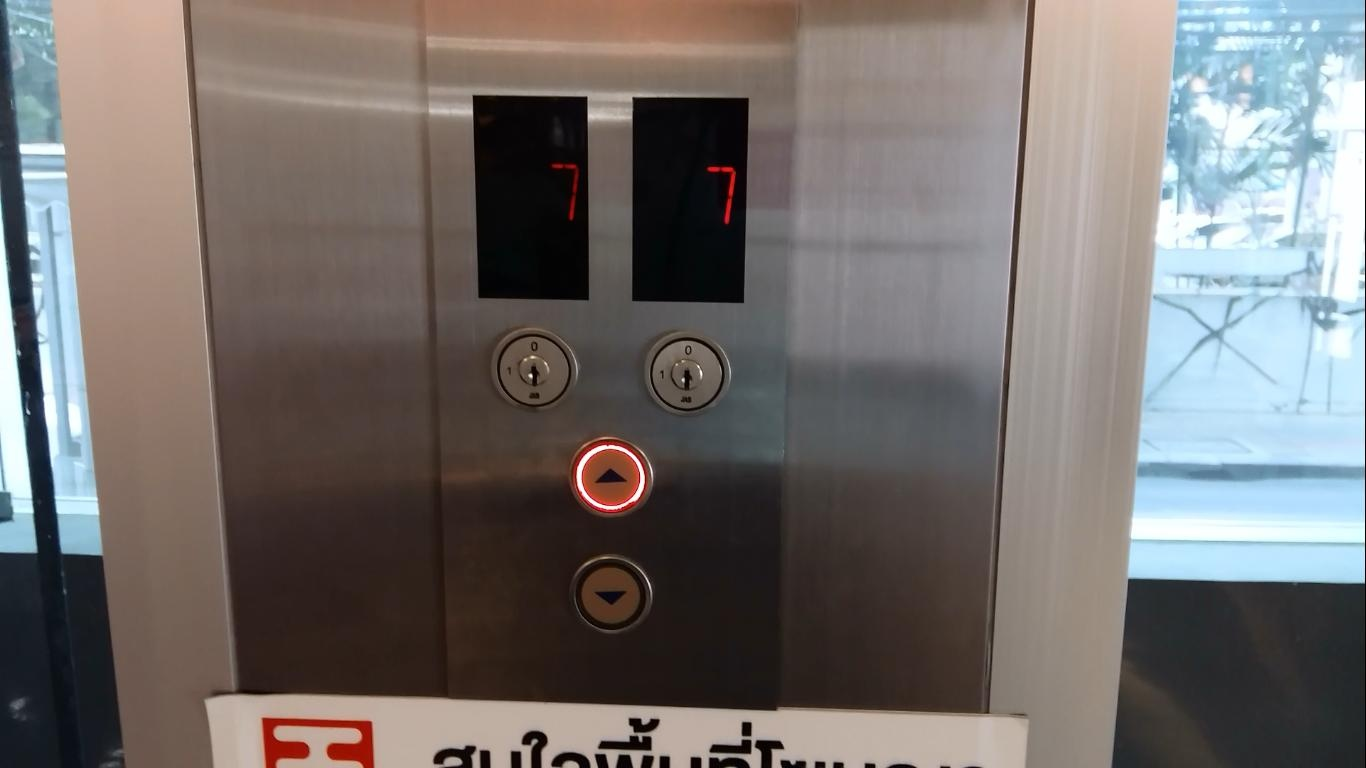down: (567, 555, 653, 636)
keyhole: (490, 327, 580, 412), (644, 332, 732, 416)
led: (466, 91, 594, 306), (627, 91, 751, 307)
up: (568, 436, 656, 519)
